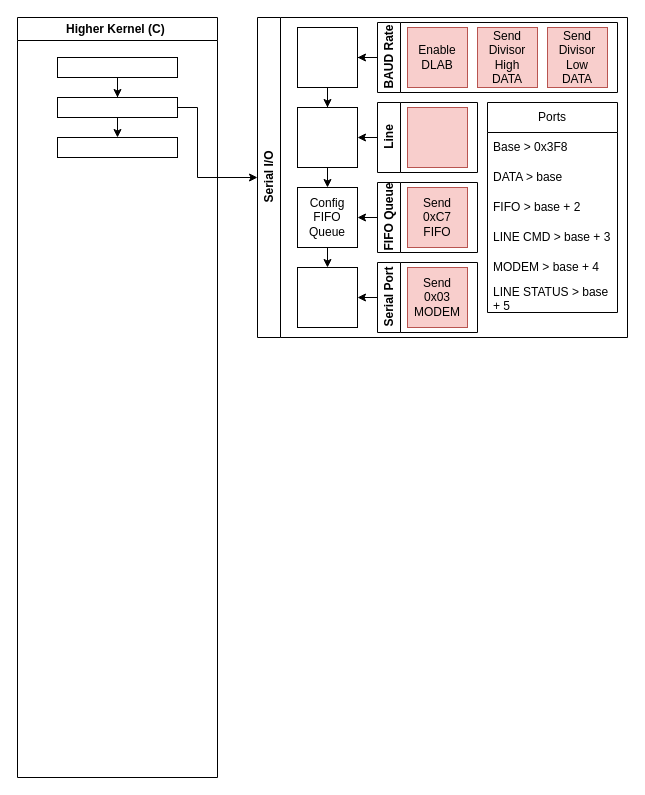
This 645x795 diagram has some shape labels left out. Each missing label, with the centre of its shape:
"Config BAUD Rate" goes at (x=327, y=57).
"Config Line" goes at (x=327, y=137).
"Config Modem" goes at (x=327, y=297).
"Configure Logging" goes at (x=117, y=147).
"Configure Serial I/O" goes at (x=117, y=107).
"Disable Interrupts" goes at (x=117, y=67).
"Send 0x03 LINE" goes at (x=437, y=137).
